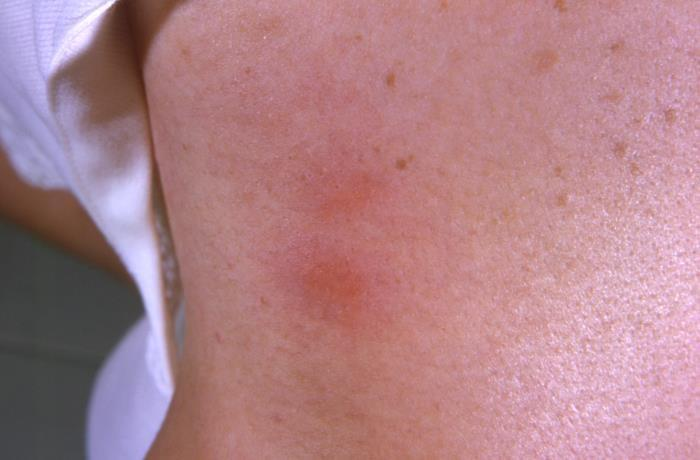Scorpion: (259, 102, 452, 339)
